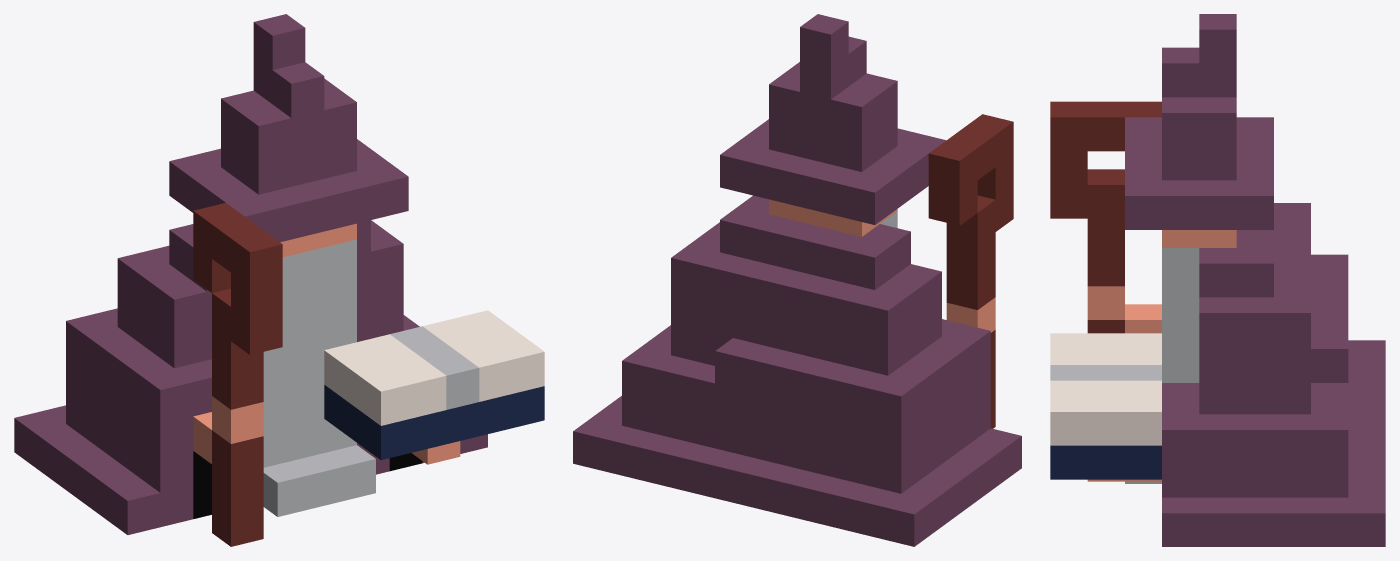
The model's file is mage_idle_1.obj.
3 renders of one model, left to right at view 1: azimuth 30°, elevation 25°; view 2: azimuth 150°, elevation 25°; view 3: azimuth 270°, elevation 25°, orthographic. The views are drawn at different scales.
Size of the model in its own units: 1.1 by 1.3 by 0.9.
1 material, 1 textured.
